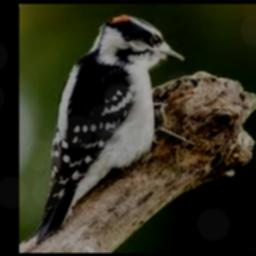Woodpecker: (25, 14, 197, 244)
